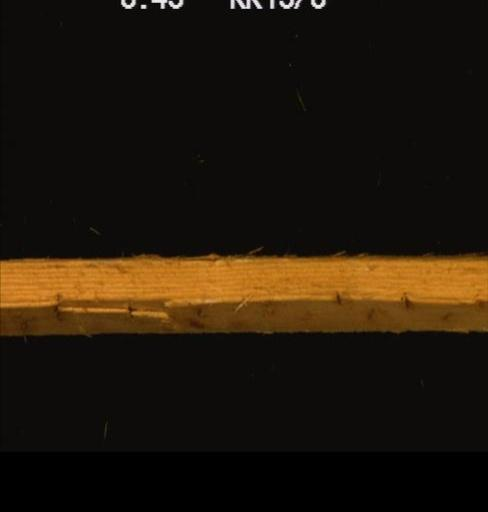wave: (0, 251, 485, 326)
